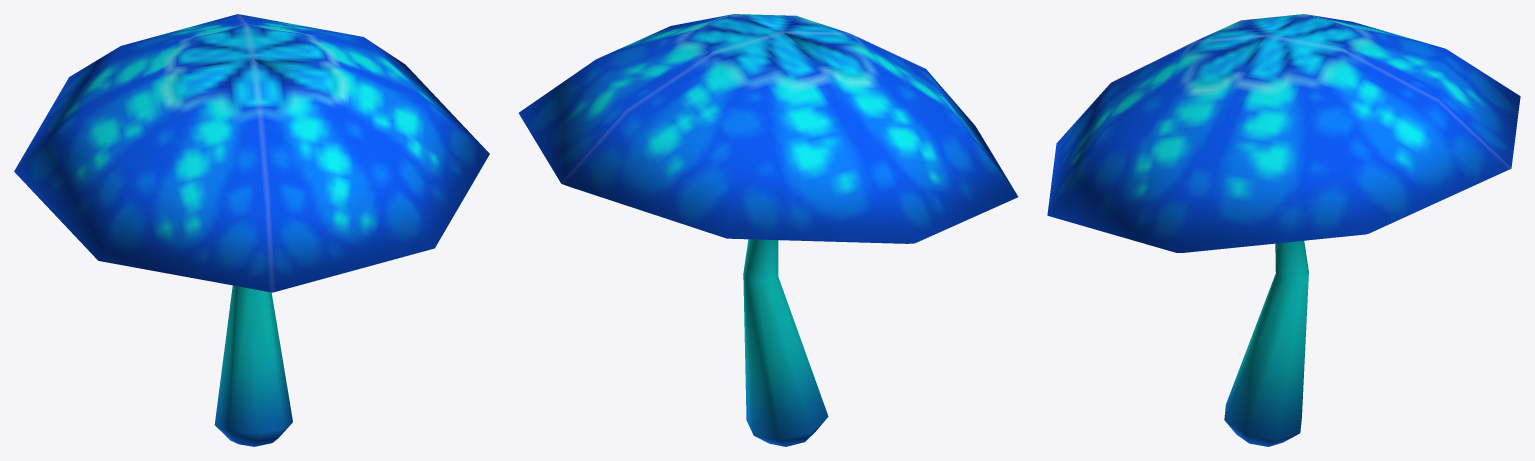
Rendered from Mushroom_02a.FBX.
3 views of the same model, side by side, from view 1: azimuth 30°, elevation 25°; view 2: azimuth 150°, elevation 25°; view 3: azimuth 270°, elevation 25° (orthographic). The views are drawn at different scales.
Visible parts, largest first — view 1: Mushroom_02a; view 2: Mushroom_02a; view 3: Mushroom_02a.
Boxes of the visible parts, bbox=[...] form: Mushroom_02a: bbox=[14, 14, 489, 446]; Mushroom_02a: bbox=[518, 14, 1018, 446]; Mushroom_02a: bbox=[1047, 14, 1520, 446].
Size of the model in its own units: 58.36 by 55.24 by 58.15.
